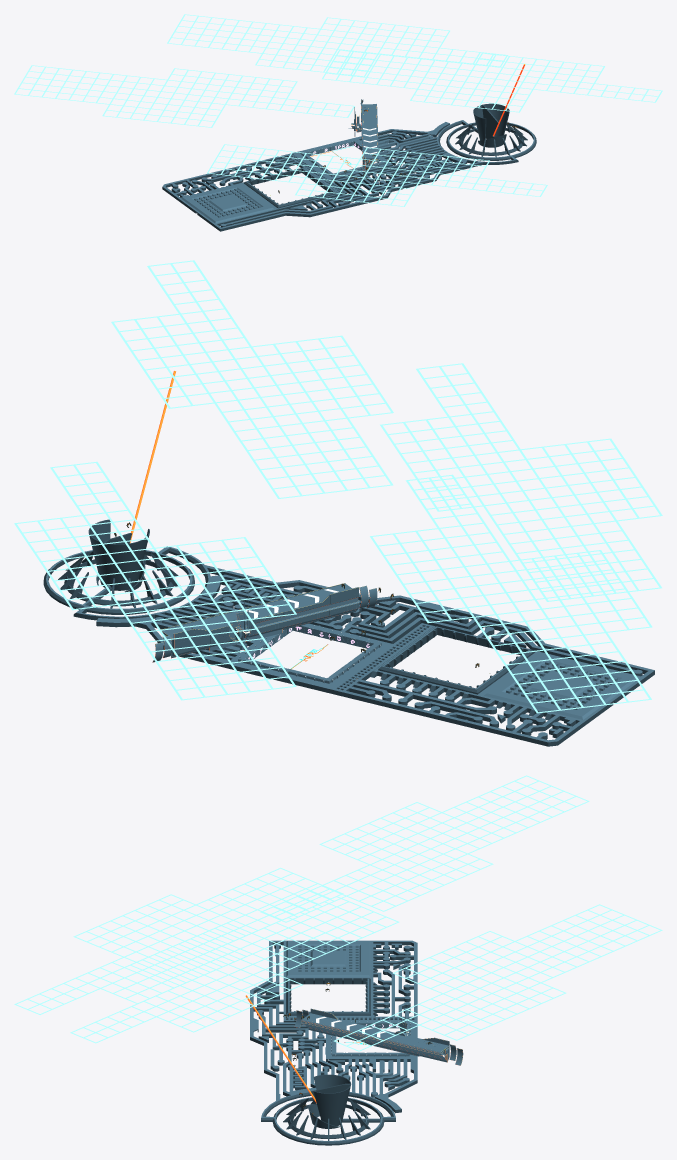
Rendered from tron_1982.glb.
The picture shows the model from 3 angles, top to bottom: view 1: azimuth 30°, elevation 25°; view 2: azimuth 150°, elevation 25°; view 3: azimuth 270°, elevation 25°; orthographic projection. The views are drawn at different scales.
Visible parts, largest first — view 1: skfb_offset; view 2: skfb_offset; view 3: skfb_offset.
Boxes of the visible parts, left/top/right/bottom form: skfb_offset: left=14, top=14, right=662, bottom=231; skfb_offset: left=14, top=260, right=662, bottom=746; skfb_offset: left=14, top=775, right=662, bottom=1145.
Size of the model in its own units: 1430 by 294 by 1367.
Materials: 56 (3 with a texture image).
